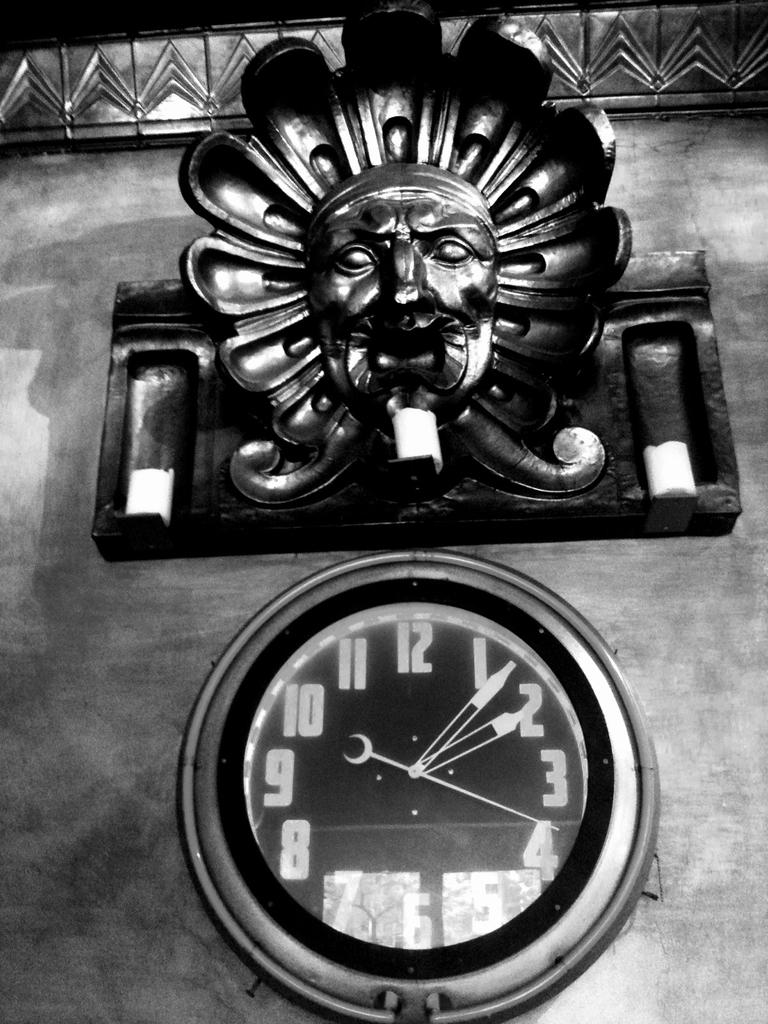Chair: (90, 2, 742, 557)
